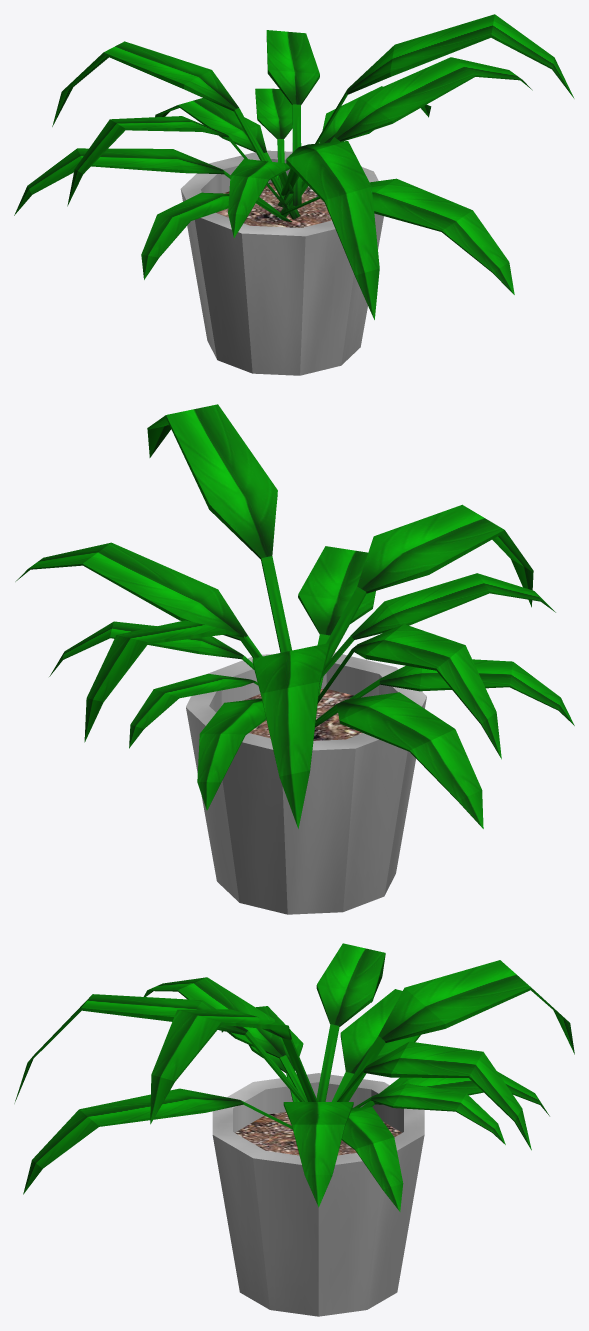
Rendered from Plant1.obj.
The picture shows the model from 3 angles, top to bottom: view 1: azimuth 30°, elevation 25°; view 2: azimuth 150°, elevation 25°; view 3: azimuth 270°, elevation 25°; orthographic projection. The views are drawn at different scales.
Parts seen in each view (by area): view 1: plant_plant.003; view 2: plant_plant.003; view 3: plant_plant.003.
Part boxes in pixels (bbox=[...]): plant_plant.003: bbox=[14, 14, 574, 375]; plant_plant.003: bbox=[15, 404, 574, 914]; plant_plant.003: bbox=[14, 943, 574, 1316].
Bounding box in the file's own units: 7.65 × 5.11 × 7.51.
Materials: 1 (1 with a texture image).
